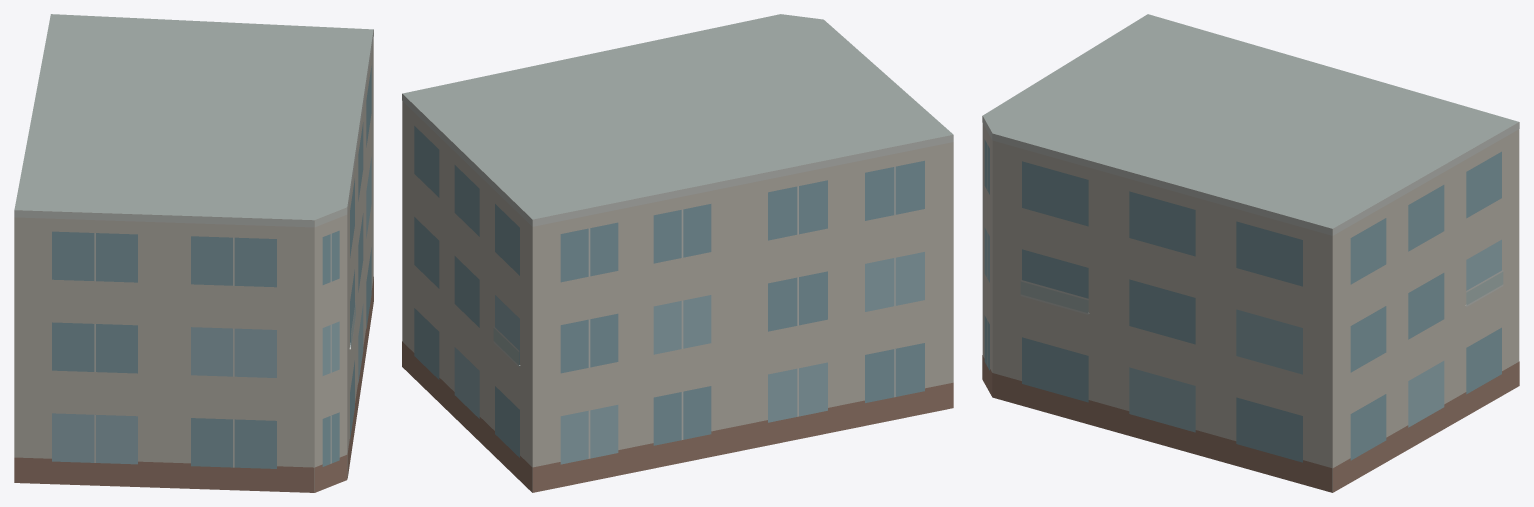
Rendered from survey-upis-32977196.glb.
3 renders of one model, left to right at view 1: azimuth 30°, elevation 25°; view 2: azimuth 150°, elevation 25°; view 3: azimuth 270°, elevation 25°, orthographic. The views are drawn at different scales.
Parts seen in each view (by area): view 1: survey-upis-32977196.tmp; view 2: survey-upis-32977196.tmp; view 3: survey-upis-32977196.tmp.
Boxes of the visible parts, bbox=[...] form: survey-upis-32977196.tmp: bbox=[14, 14, 373, 492]; survey-upis-32977196.tmp: bbox=[402, 14, 953, 492]; survey-upis-32977196.tmp: bbox=[982, 14, 1519, 492].
Size of the model in its own units: 15.98 by 9.15 by 16.87.
